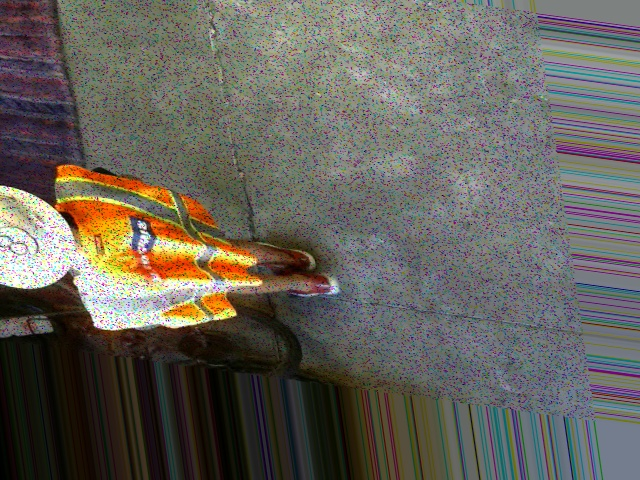eight: (0, 219, 42, 269)
